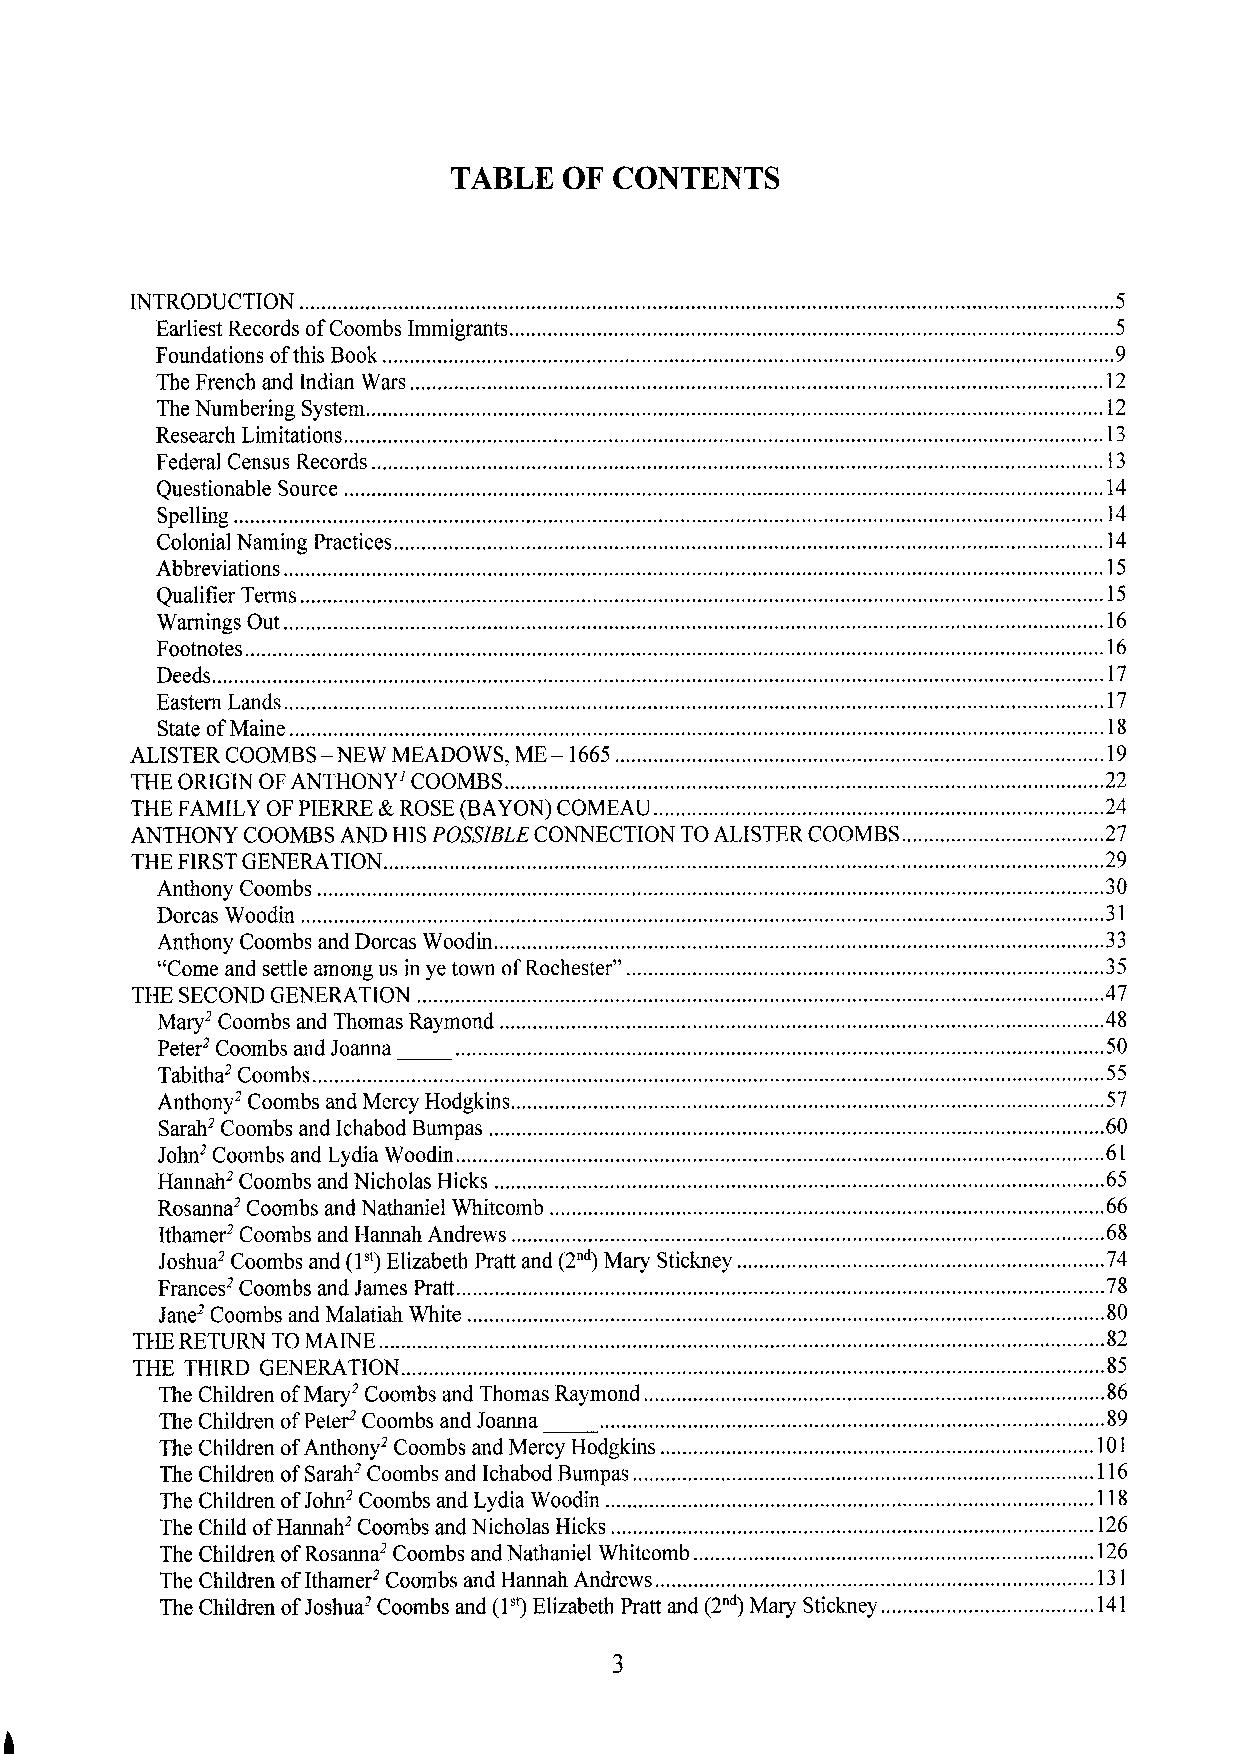TOC_chapter: (156, 1592, 876, 1617), (130, 825, 899, 843), (157, 1249, 731, 1272), (158, 1541, 691, 1563), (129, 796, 650, 819), (156, 1382, 639, 1406), (157, 1435, 658, 1457), (157, 1461, 629, 1486), (156, 957, 620, 980), (156, 1514, 604, 1537), (157, 1567, 652, 1588), (127, 743, 611, 764), (157, 1490, 600, 1510), (152, 315, 509, 340), (156, 930, 493, 956), (156, 1088, 509, 1113), (156, 1409, 538, 1431), (156, 1196, 544, 1216), (157, 1008, 493, 1031), (156, 1223, 507, 1244), (157, 1169, 488, 1190), (156, 1118, 483, 1139), (129, 772, 502, 790), (157, 1303, 462, 1325), (158, 1143, 454, 1165), (154, 1278, 454, 1296), (153, 531, 389, 554), (127, 984, 411, 1002), (129, 1330, 376, 1351), (129, 851, 382, 871), (156, 1036, 392, 1057), (153, 397, 364, 420), (152, 372, 407, 391), (130, 1358, 401, 1376), (127, 289, 307, 314), (153, 345, 378, 364), (156, 451, 365, 471), (156, 476, 338, 499), (153, 425, 342, 446), (153, 1062, 309, 1084), (154, 878, 311, 899), (153, 585, 297, 607), (154, 905, 297, 926), (156, 611, 279, 632), (156, 718, 285, 738), (156, 558, 280, 578), (154, 692, 280, 709), (154, 639, 242, 659), (154, 506, 229, 527), (156, 666, 209, 684)
TOC_pagenumber: (1095, 1459, 1129, 1482), (1095, 1486, 1130, 1507), (1094, 1592, 1127, 1613), (1095, 1514, 1130, 1533), (1096, 1539, 1127, 1559), (1094, 1566, 1126, 1585), (1095, 1435, 1127, 1452), (1104, 954, 1129, 977), (1104, 1298, 1129, 1321), (1103, 1194, 1130, 1215), (1103, 1274, 1130, 1294), (1104, 395, 1127, 417), (1104, 1380, 1129, 1401), (1104, 607, 1127, 628), (1104, 1035, 1127, 1056), (1104, 1221, 1127, 1243), (1104, 1406, 1127, 1428), (1104, 476, 1129, 497), (1102, 794, 1126, 815), (1103, 849, 1127, 870), (1104, 1009, 1129, 1029), (1104, 1168, 1129, 1188), (1103, 874, 1129, 892), (1104, 527, 1126, 549), (1104, 370, 1127, 391), (1106, 421, 1126, 444), (1102, 821, 1125, 841), (1104, 1115, 1127, 1135), (1104, 447, 1125, 468), (1104, 688, 1126, 709), (1106, 715, 1127, 735), (1104, 1088, 1126, 1108), (1104, 1139, 1125, 1161), (1104, 929, 1127, 947), (1104, 982, 1127, 1001), (1106, 1063, 1129, 1082), (1104, 1248, 1127, 1267), (1106, 1327, 1129, 1346), (1104, 582, 1125, 603), (1104, 902, 1125, 922), (1104, 556, 1126, 574), (1106, 1354, 1127, 1373), (1113, 285, 1127, 311), (1106, 502, 1126, 521), (1111, 341, 1129, 362), (1104, 772, 1126, 789), (1108, 662, 1127, 680), (1106, 636, 1125, 654), (1108, 743, 1126, 762), (1113, 315, 1127, 336)
chapter: (446, 162, 784, 191)
content_pagenumber: (609, 1645, 629, 1688)
